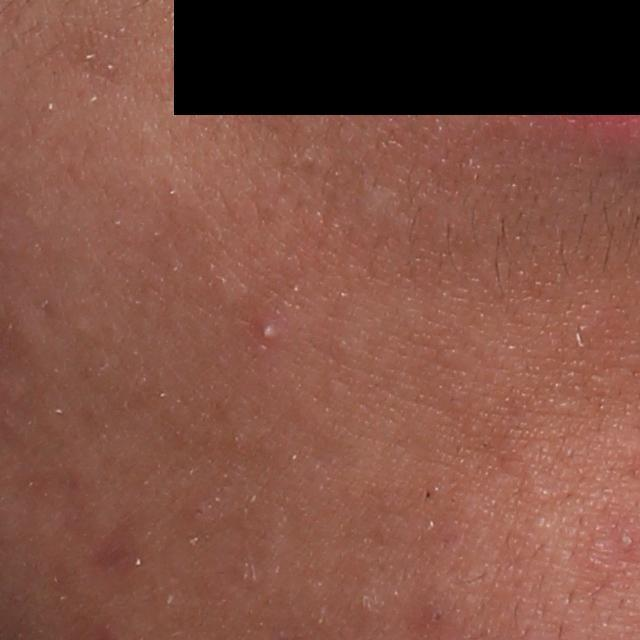comedo: (423, 608, 448, 629)
pustule: (258, 323, 278, 343)
